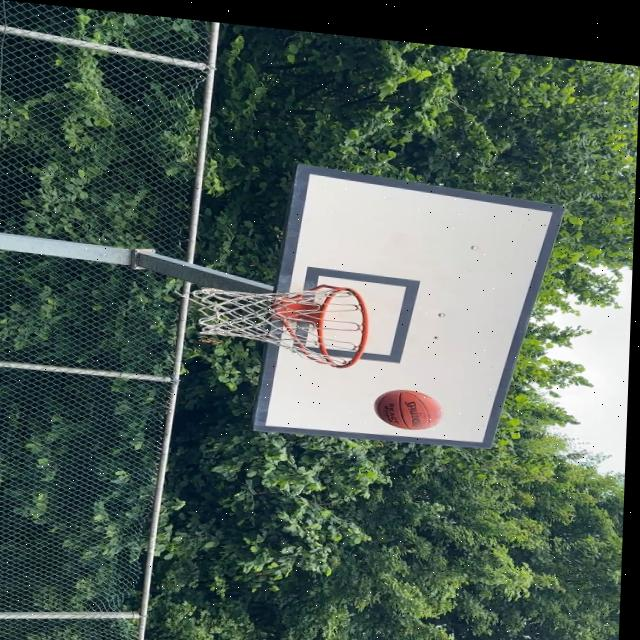Basketball: (375, 385, 445, 434)
